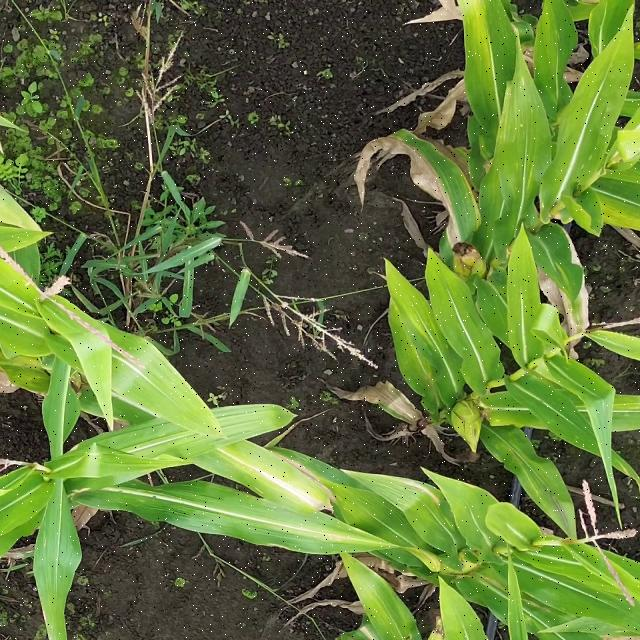gray-leaf-spot: (126, 493, 218, 522)
northern-leaf-blight: (232, 457, 332, 508), (428, 173, 472, 244), (486, 575, 551, 612), (398, 478, 446, 512), (354, 619, 384, 640)
southern-leaf-blight: (506, 100, 546, 146), (491, 8, 519, 57), (572, 617, 624, 635)
